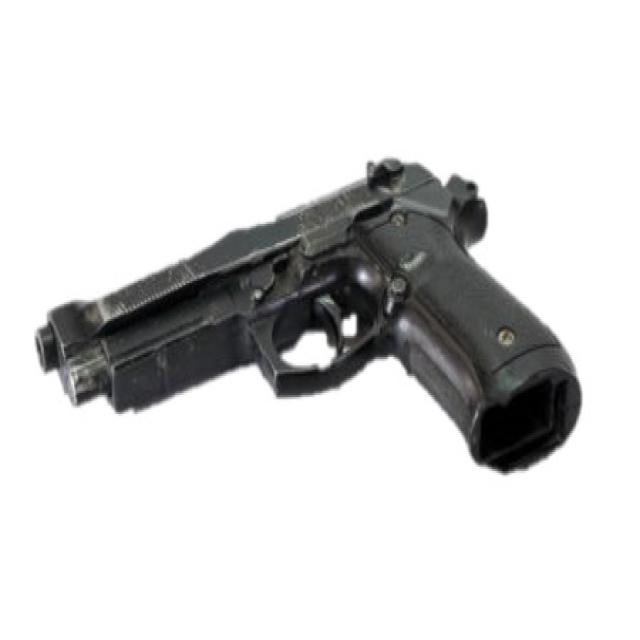pistol: (27, 146, 584, 480)
